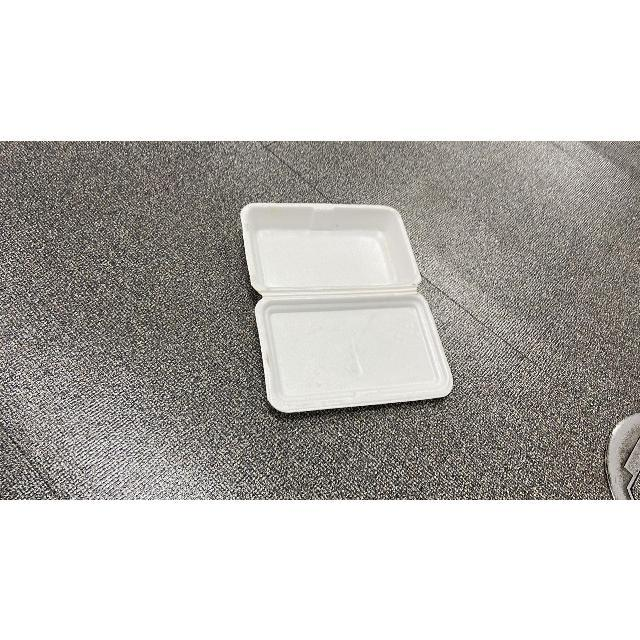Recipiente plastico: (241, 202, 452, 412)
